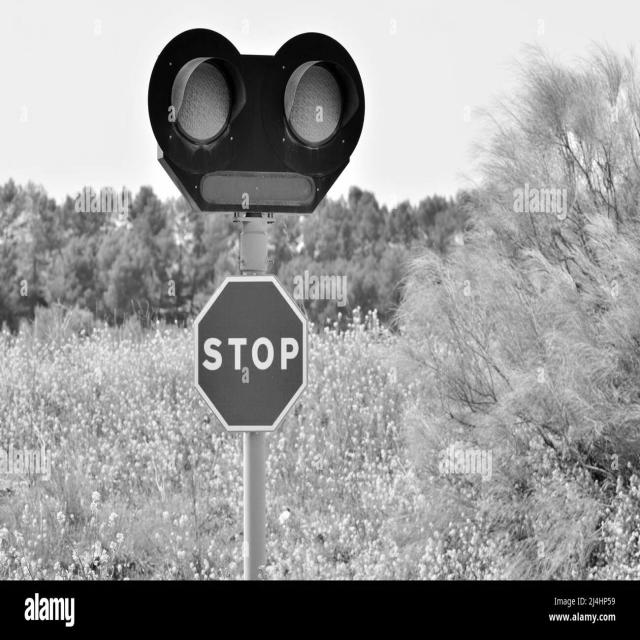Stop-sign: (180, 264, 321, 444)
